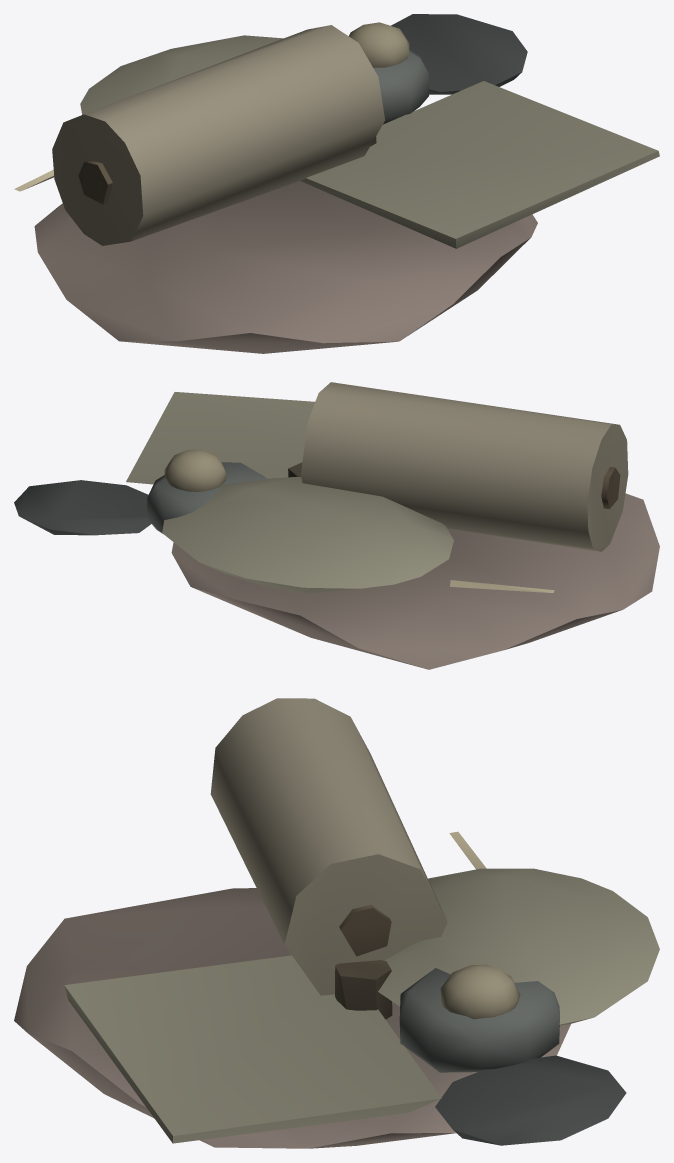
The model's file is patch_bolt_b_lod2.glb.
3 renders of one model, top to bottom at view 1: azimuth 30°, elevation 25°; view 2: azimuth 150°, elevation 25°; view 3: azimuth 270°, elevation 25°, orthographic. The views are drawn at different scales.
Visible parts, largest first — view 1: Surface.001; view 2: Surface.001; view 3: Surface.001.
Boxes of the visible parts, left/top/right/bottom form: Surface.001: left=14, top=14, right=659, bottom=353; Surface.001: left=14, top=382, right=659, bottom=669; Surface.001: left=14, top=698, right=659, bottom=1148.
Bounding box in the file's own units: 1.46 × 0.5852 × 1.27.
